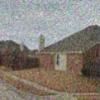chimneys: (38, 32, 44, 50)
